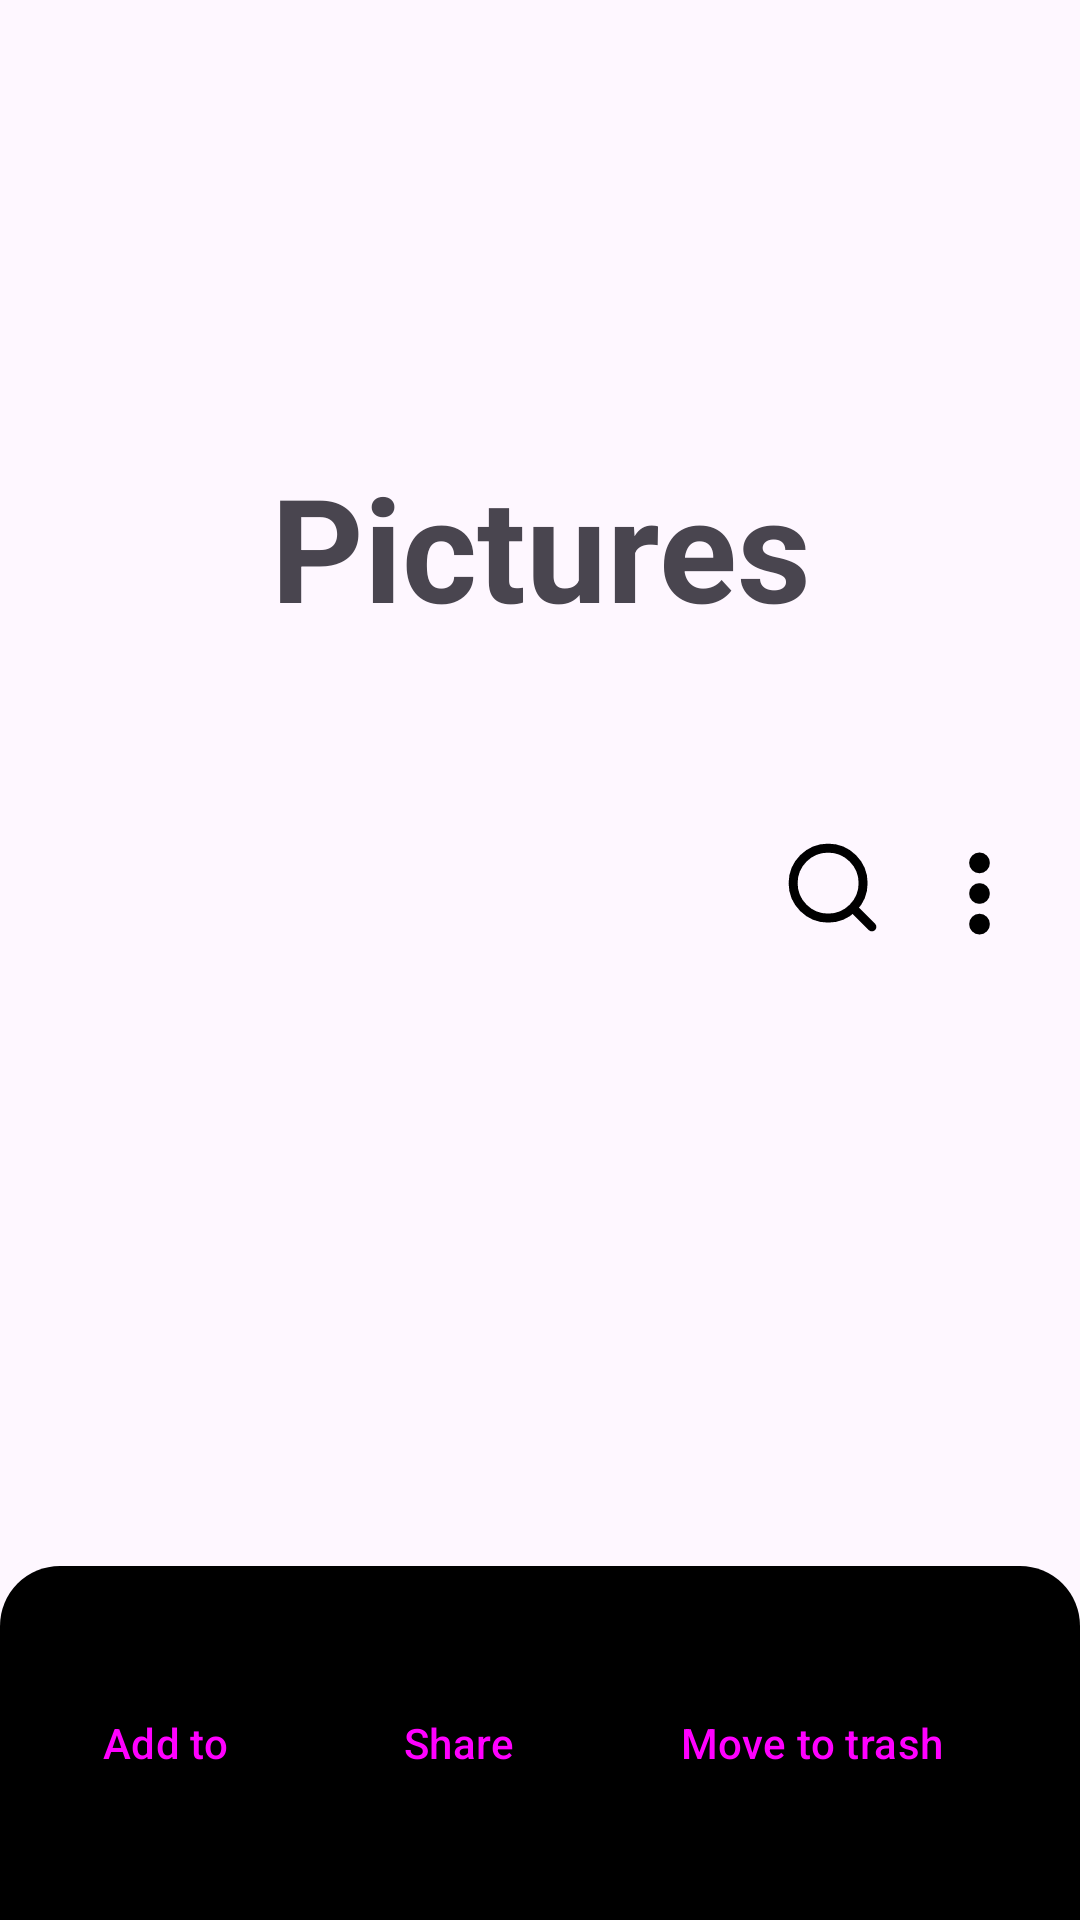

Screen size 1080 x 1920. Icon name, then its box in pixels as (x1, y1, x2, y2):
search: (788, 843, 877, 932)
